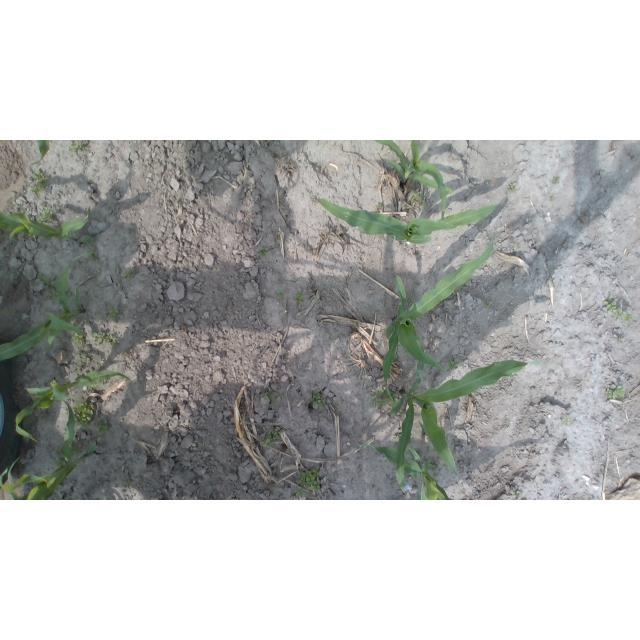Maize: (390, 359, 547, 494), (383, 232, 495, 402), (317, 194, 508, 245), (0, 253, 90, 361), (16, 368, 132, 440), (372, 140, 455, 220), (0, 441, 96, 500), (360, 444, 454, 501), (0, 207, 94, 246), (31, 141, 51, 166)
Weeds: (295, 467, 321, 498), (71, 402, 93, 428), (370, 386, 398, 406), (38, 274, 59, 300), (92, 332, 119, 349), (259, 427, 281, 447), (32, 169, 48, 196), (604, 384, 624, 401), (56, 445, 69, 468), (96, 420, 112, 437), (39, 208, 54, 225), (423, 460, 442, 473), (261, 390, 276, 405), (447, 356, 461, 372), (72, 332, 85, 349), (122, 265, 136, 279), (604, 297, 617, 312), (313, 392, 325, 408), (410, 192, 424, 205), (292, 291, 304, 305), (68, 142, 84, 152), (108, 308, 121, 320), (88, 247, 98, 261), (622, 313, 633, 324), (614, 309, 623, 320), (72, 446, 81, 456), (276, 287, 285, 297), (123, 478, 134, 486), (65, 287, 72, 299), (260, 248, 269, 257), (80, 356, 89, 365), (564, 416, 573, 424), (508, 182, 516, 191), (511, 491, 521, 498), (97, 379, 108, 384), (487, 300, 493, 308), (552, 177, 560, 183), (376, 203, 382, 209), (76, 367, 81, 373), (550, 196, 556, 201), (620, 339, 625, 343)
